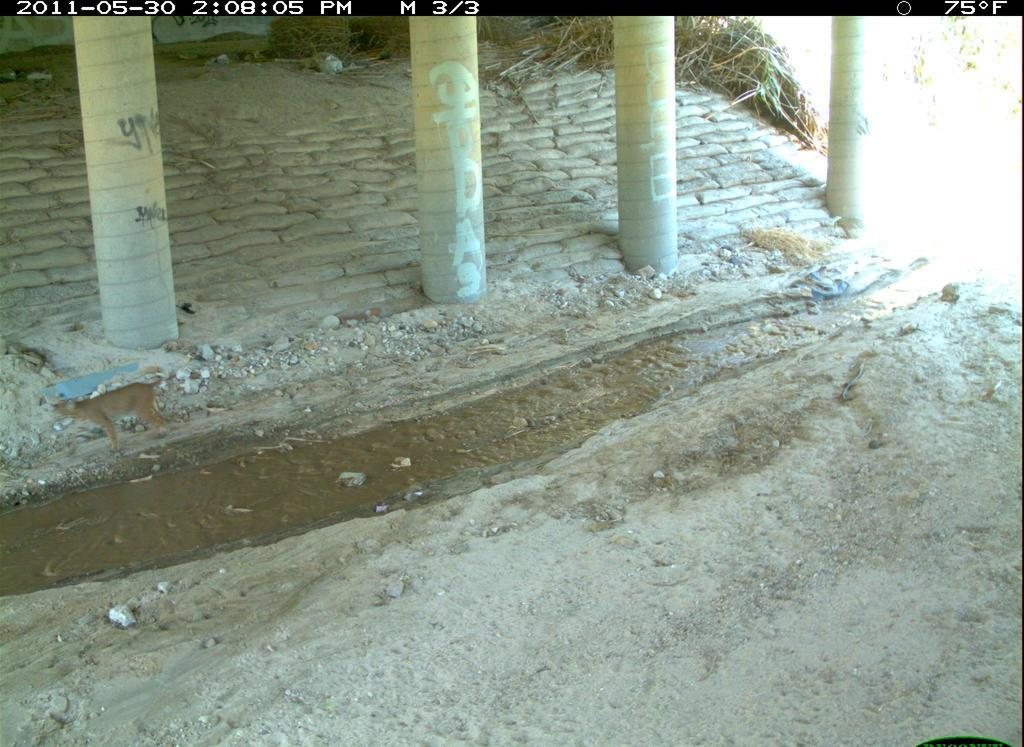bobcat: (95, 744, 357, 747)
